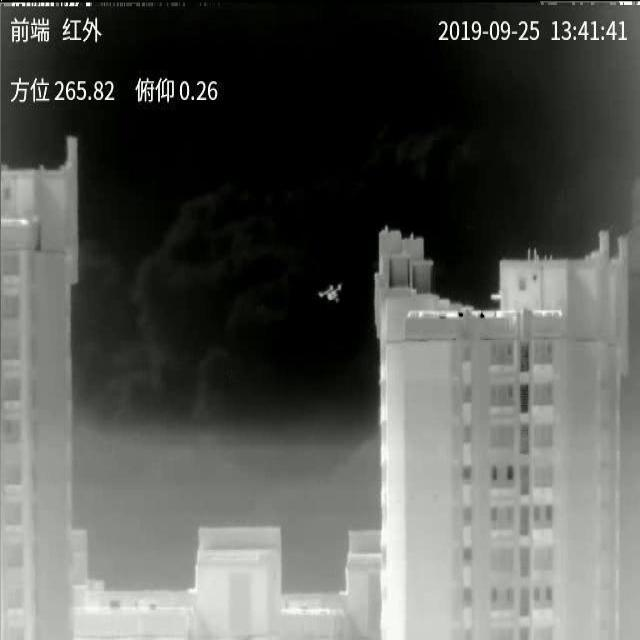drone: (319, 284, 341, 302)
